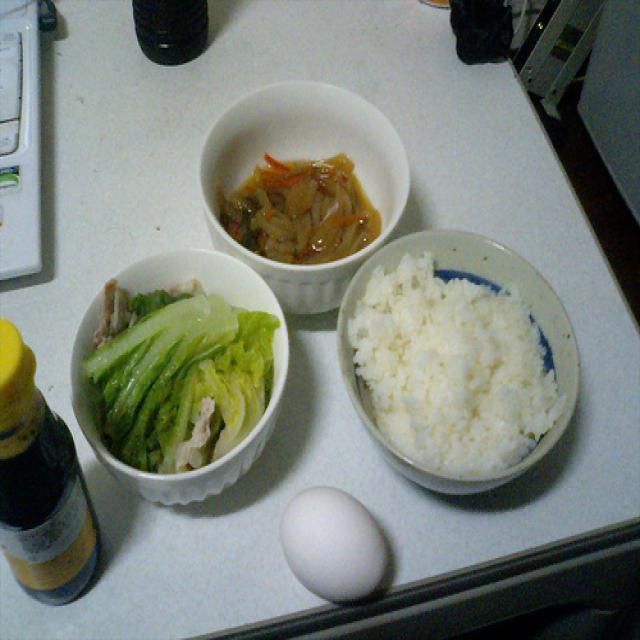Rice: (365, 248, 563, 482)
